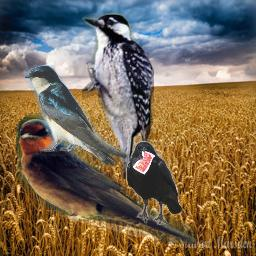Crow: (126, 141, 183, 225)
Swallow: (16, 115, 197, 244), (24, 65, 129, 166)
Woodpecker: (82, 13, 154, 179)
